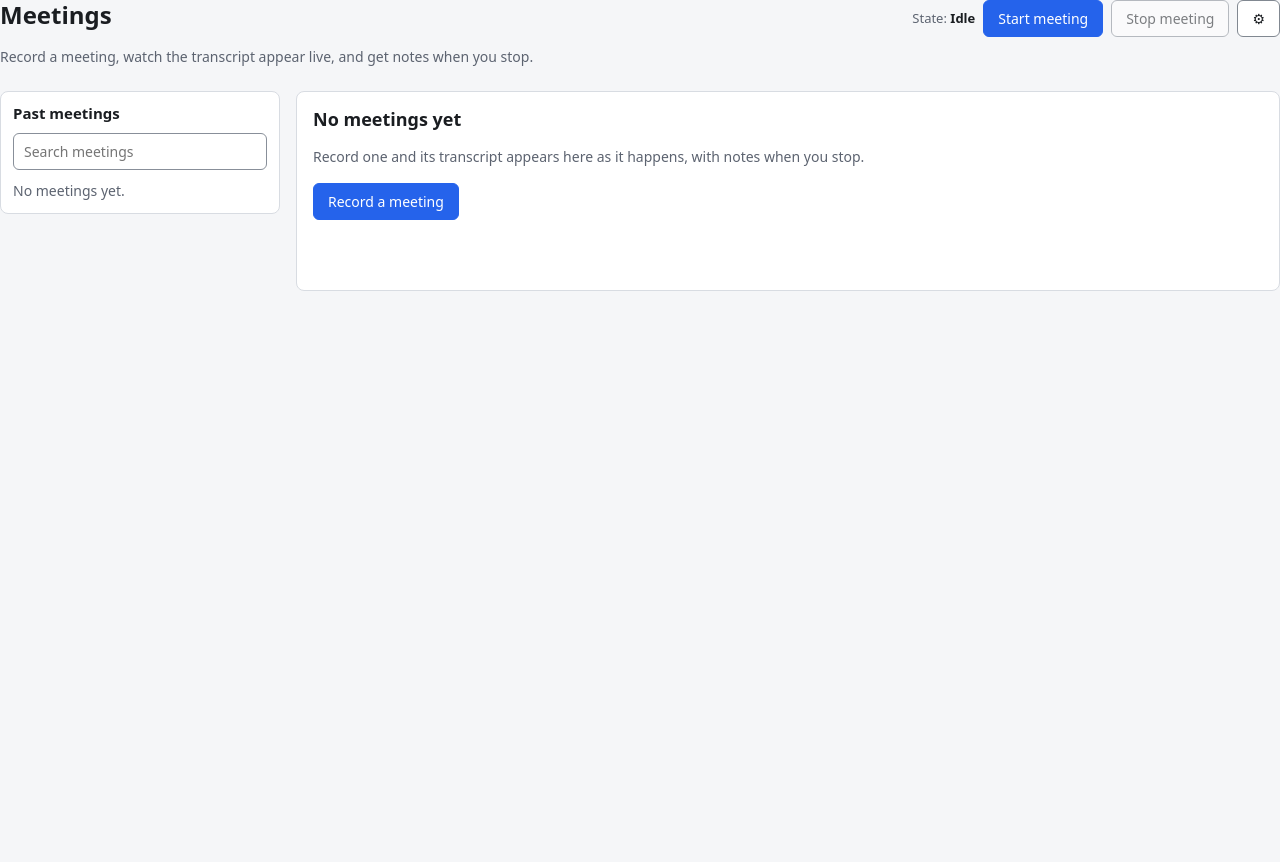
Test: MeetingsPage › puts a refused setting back instead of showing a value the backend rejected
This screenshot has width=1280, height=862.
Click the button named "Meeting settings" at (1259, 18), box [1237,0,1279,37]
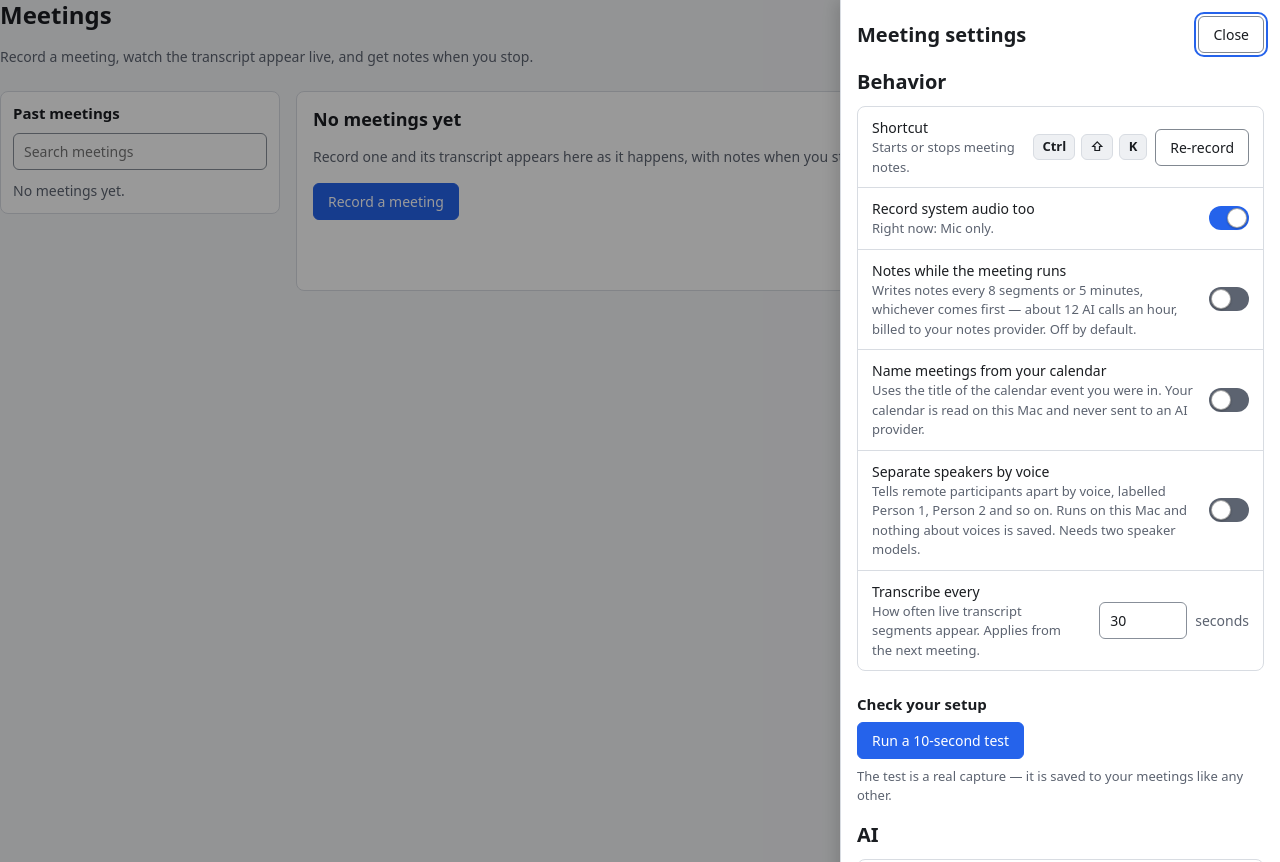
Click the switch named "Record system audio too" at (1229, 218), box [1209,206,1249,230]
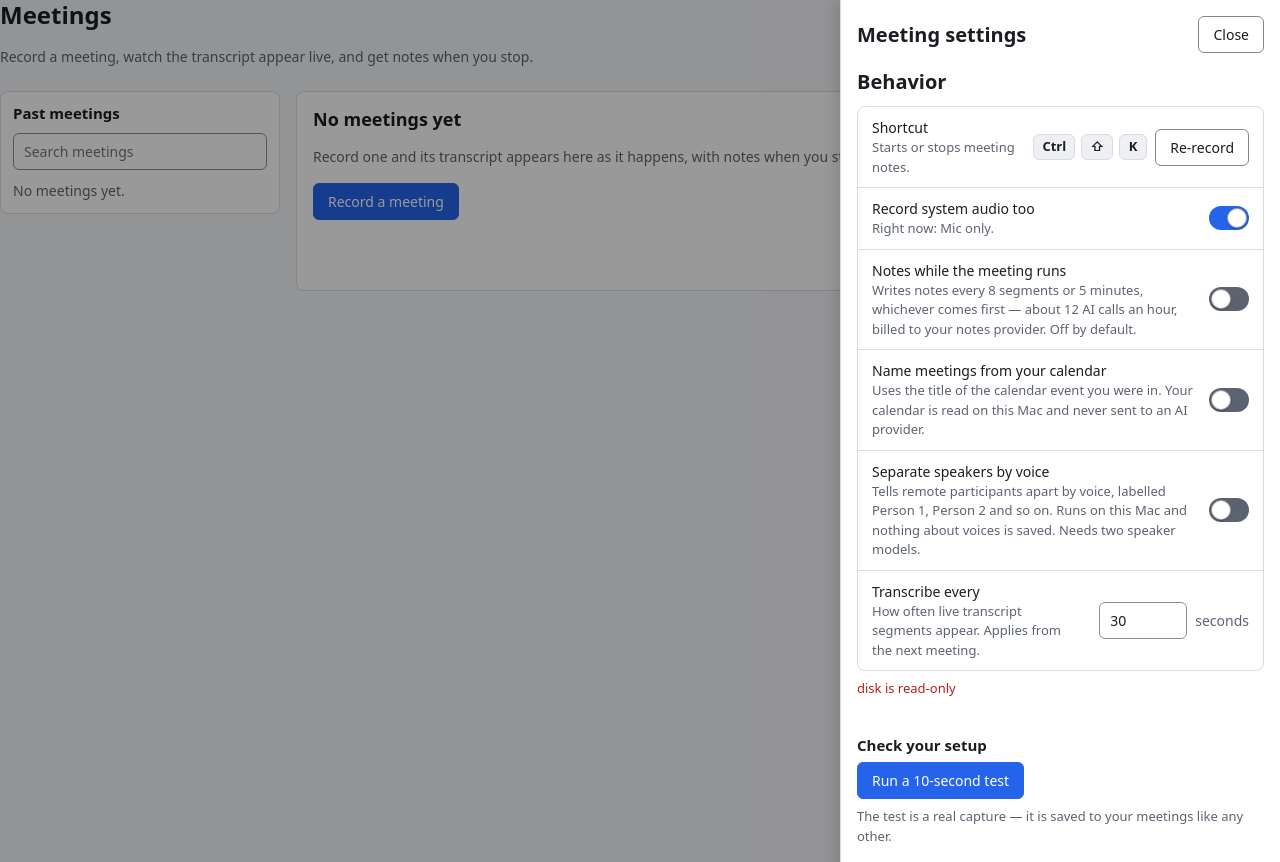
Now the text "disk is read-only" is shown, box [857,679,956,697]
